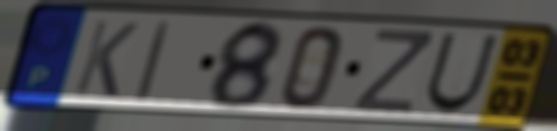0: (277, 24, 345, 112)
8: (207, 18, 288, 113)
I: (131, 18, 176, 105)
K: (70, 17, 143, 101)
U: (421, 30, 503, 116)
Z: (349, 26, 436, 116)
